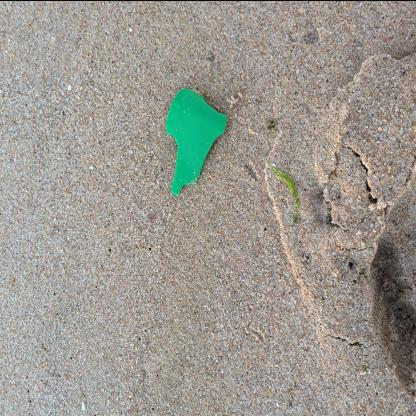plastik: (167, 88, 228, 198)
